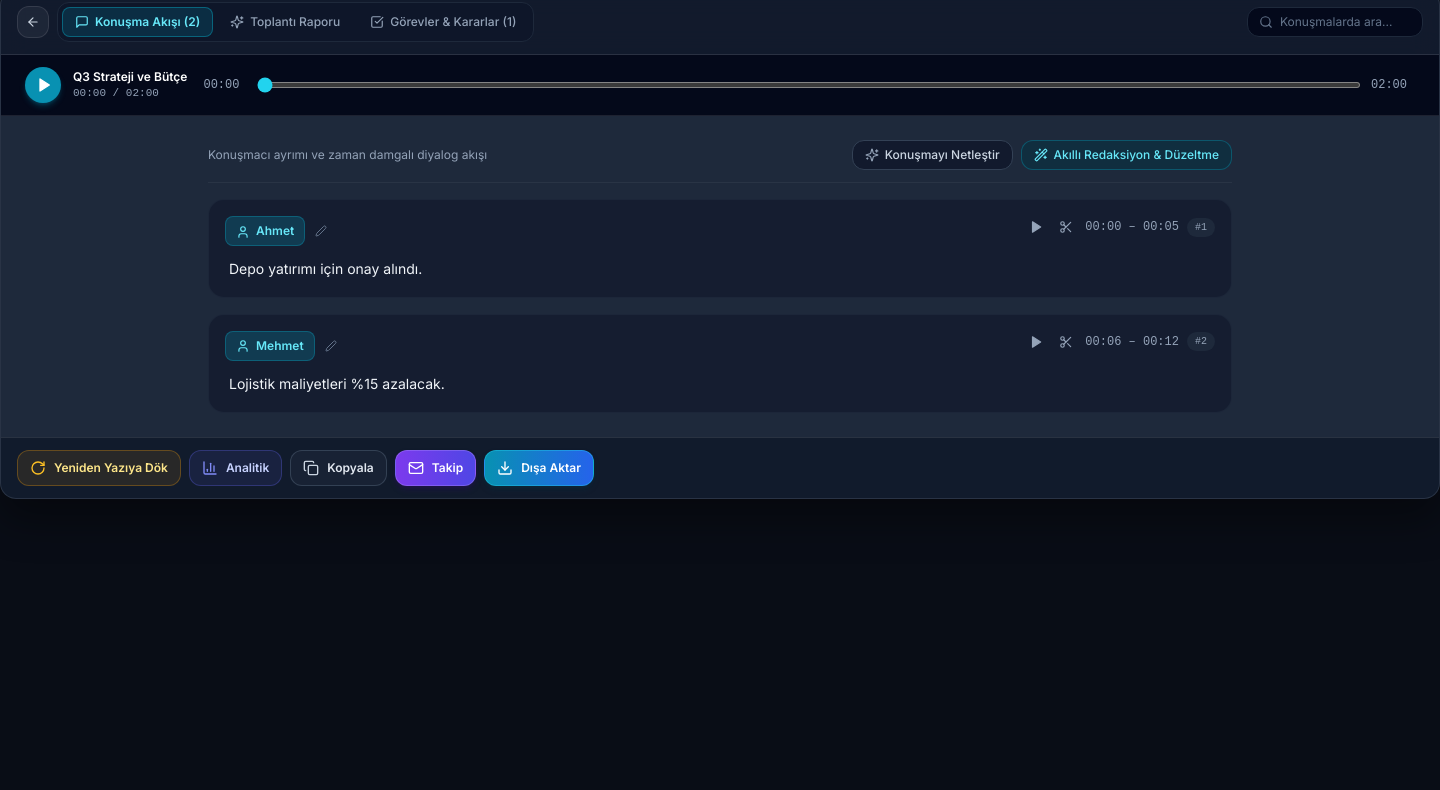
Test: TranscriptViewer Component › handles summary generation, translation, and export notes in report tab
This screenshot has width=1440, height=790.
// Switch to Report Tab
Click the tab "Toplantı Raporu".
click(285, 22)  # box [217,7,353,37]
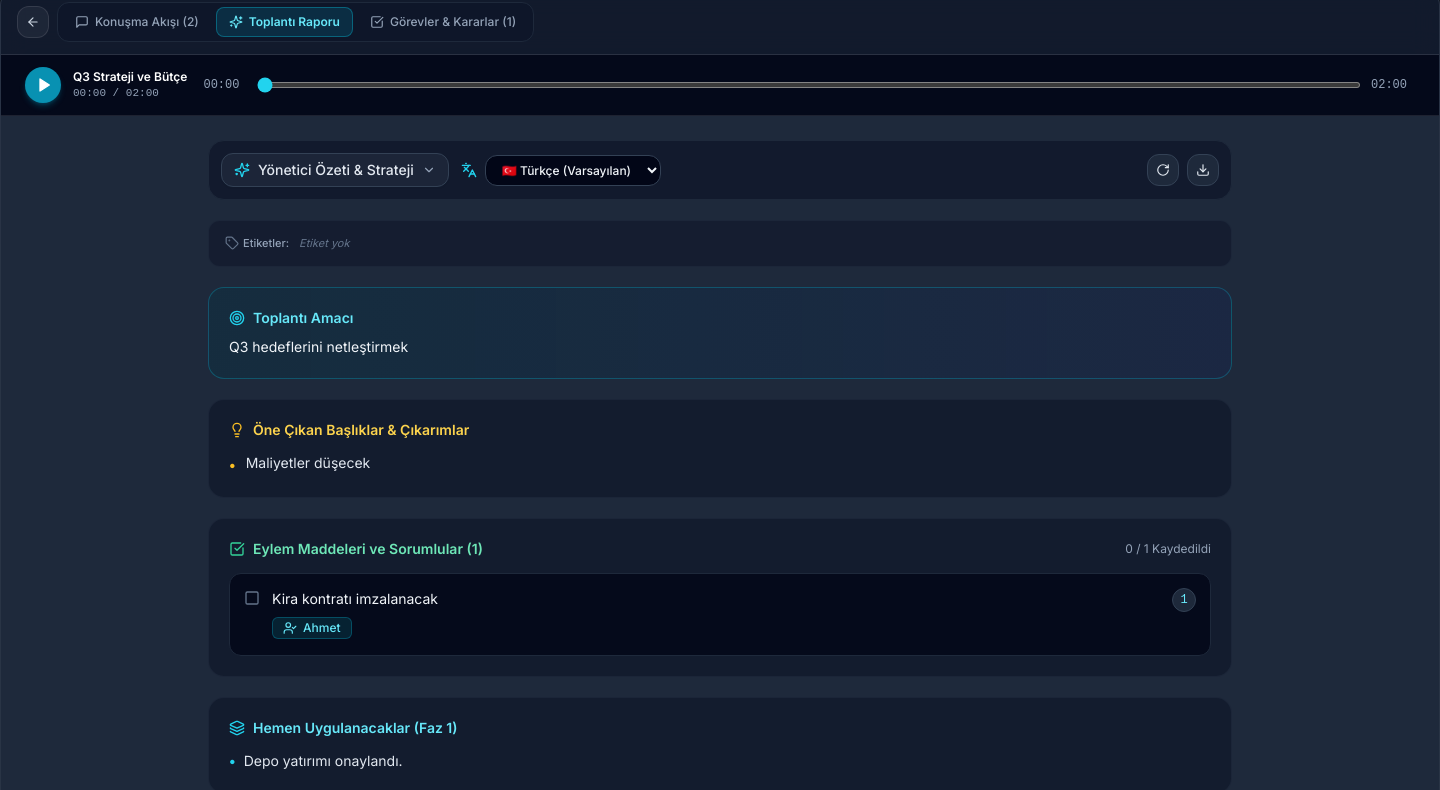
// Change summary translation language to English
Select "🇬🇧 English" in the dropdown at (573, 170), box [485,154,661,186]
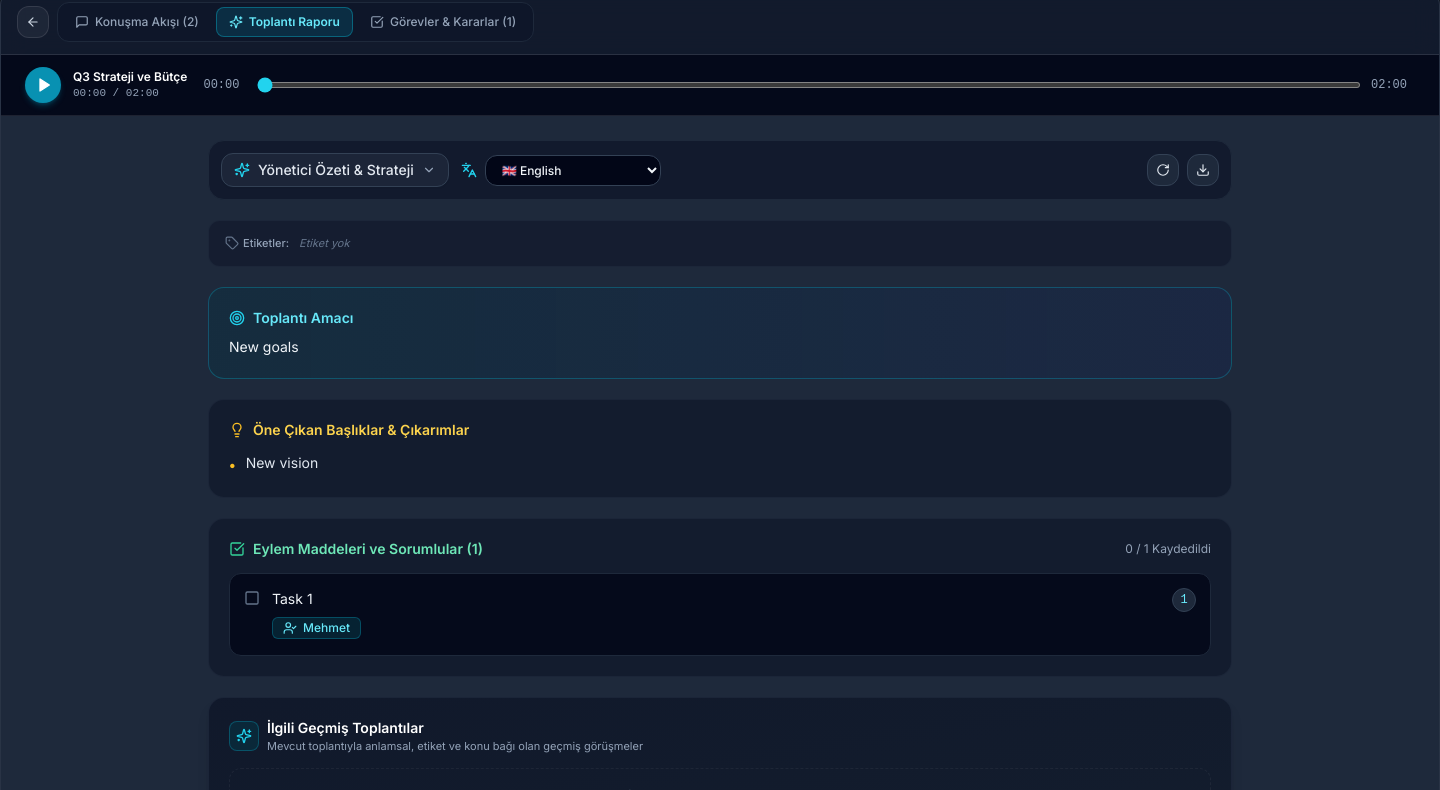
// Switch back to English (cached)
Select "🇬🇧 English" in the dropdown at (573, 170), box [485,154,661,186]
Click the button named "Raporu İndir (.md)".
click(1203, 170)  # box [1187,154,1219,186]
(page scrolled)
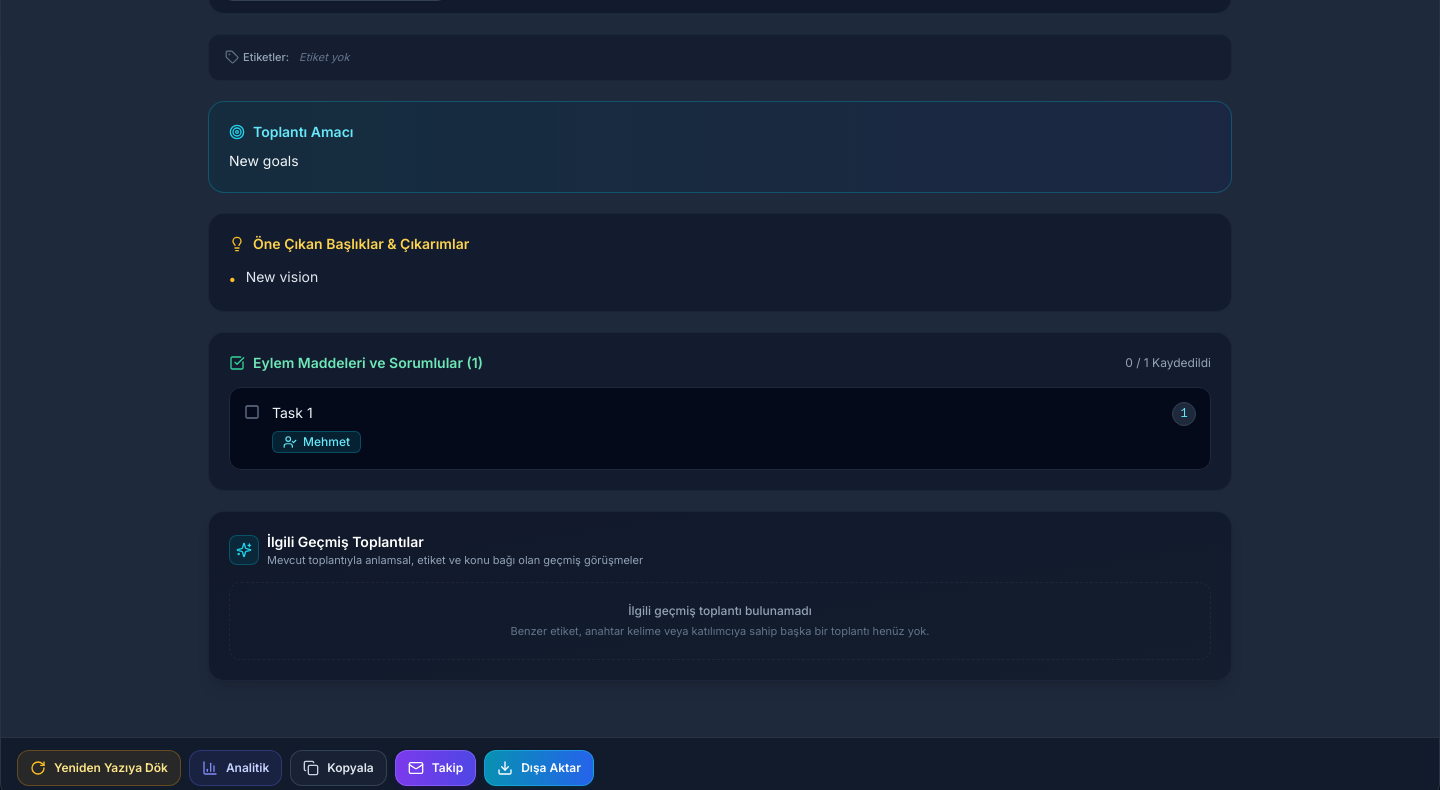
Click the button "Yeniden Yazıya Dök".
click(99, 768)  # box [17,750,181,786]
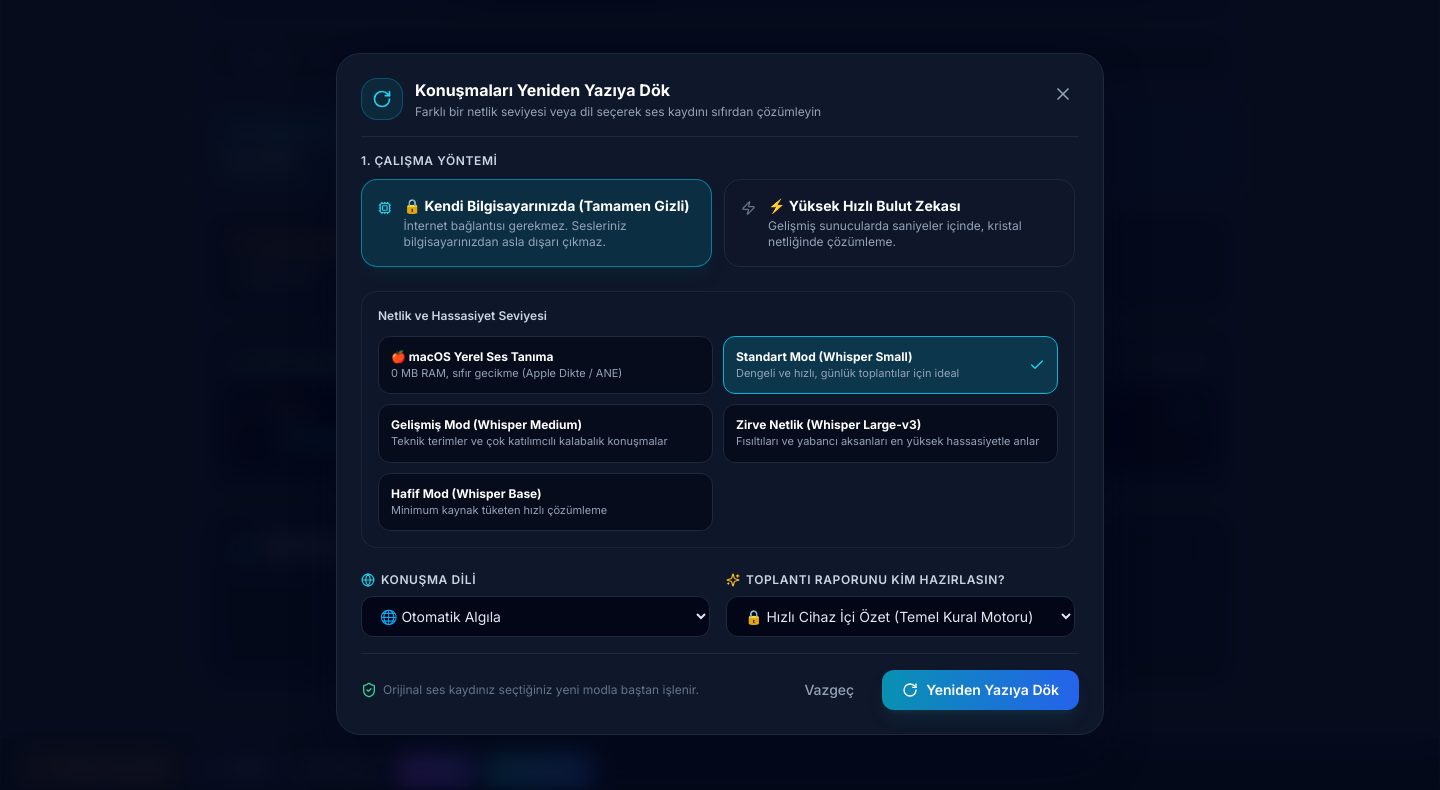
Check: the heading "Konuşmaları Yeniden Yazıya Dök" is shown, box [415,78,670,102]
